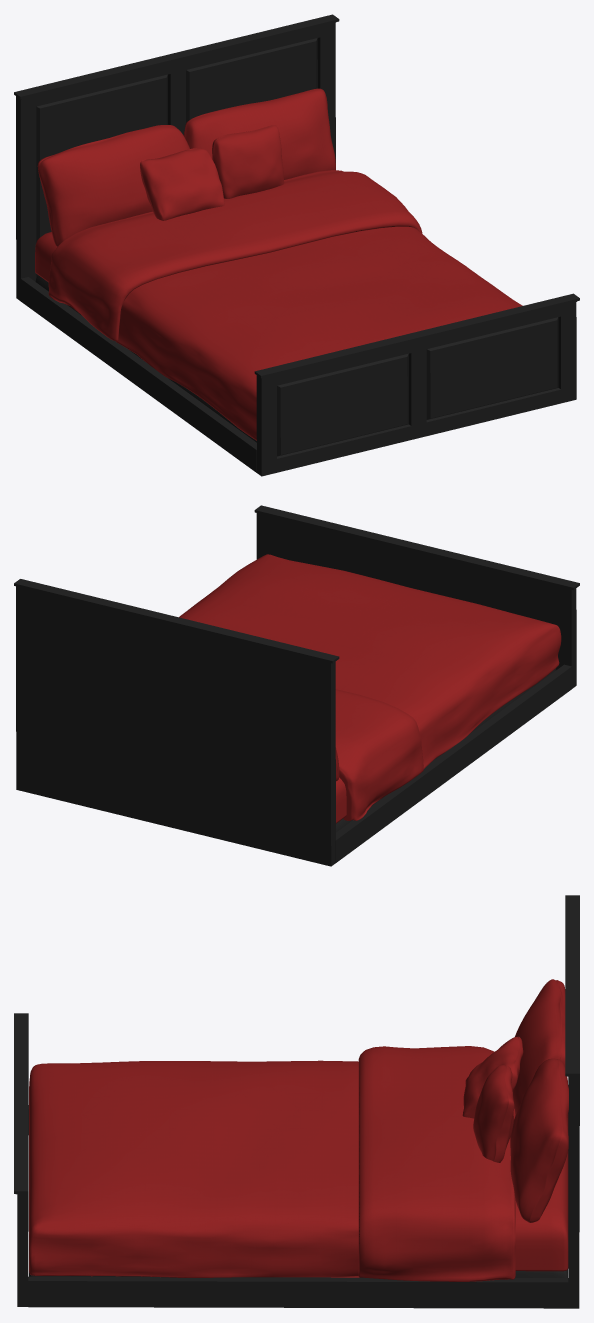
File: bed.obj
3 renders of one model, top to bottom at view 1: azimuth 30°, elevation 25°; view 2: azimuth 150°, elevation 25°; view 3: azimuth 270°, elevation 25°, orthographic. The views are drawn at different scales.
Visible parts, largest first — view 1: Box14544, Box14540, Box14541, Box14543, Box14539, Box14546, Box14548, Box14547, Box14542; view 2: Box14541, Box14544, Box14540, Box14539; view 3: Box14544, Box14538, Box14546, Box14541, Box14540, Box14542, Box14543, Box14547, Box14548.
Part boxes in pixels (x1,y1,x2,y2): Box14544: [48, 170, 522, 440]; Box14540: [254, 293, 579, 476]; Box14541: [14, 14, 339, 300]; Box14543: [37, 125, 189, 246]; Box14539: [20, 277, 256, 472]; Box14546: [183, 88, 335, 179]; Box14548: [140, 148, 224, 220]; Box14547: [212, 125, 284, 198]; Box14542: [35, 232, 56, 282]; Box14541: [14, 579, 339, 866]; Box14544: [179, 554, 561, 820]; Box14540: [254, 505, 579, 688]; Box14539: [335, 664, 571, 863]; Box14544: [29, 1046, 515, 1281]; Box14538: [28, 1276, 569, 1308]; Box14546: [510, 1058, 568, 1222]; Box14541: [565, 895, 579, 1308]; Box14540: [14, 1013, 28, 1306]; Box14542: [29, 1077, 568, 1271]; Box14543: [513, 979, 565, 1114]; Box14547: [473, 1065, 514, 1162]; Box14548: [462, 1036, 523, 1118].
Size of the model in its own units: 3.34 by 2.06 by 4.48.
